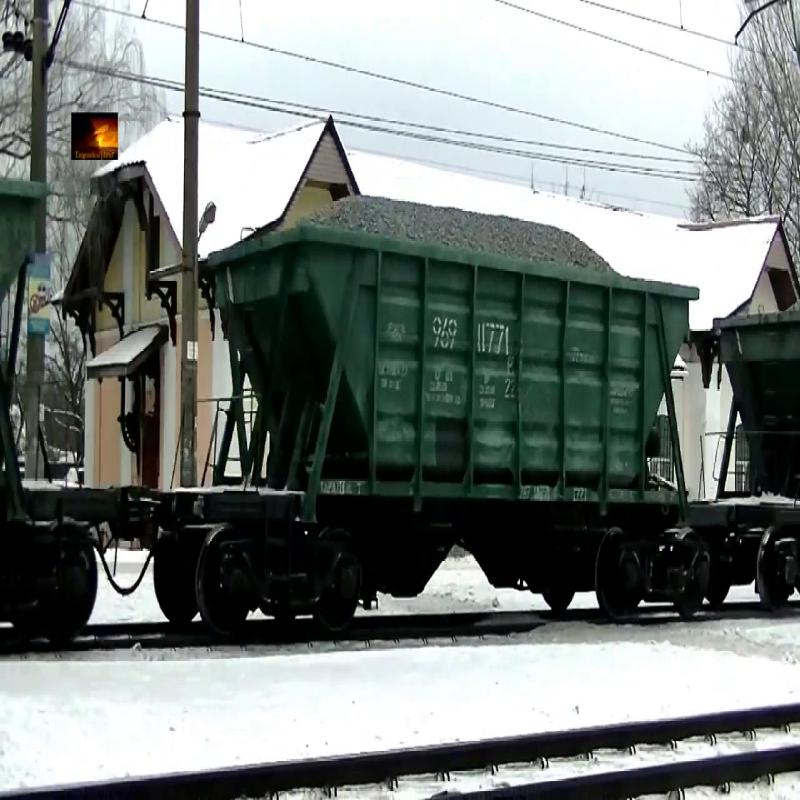train: (216, 199, 699, 623)
